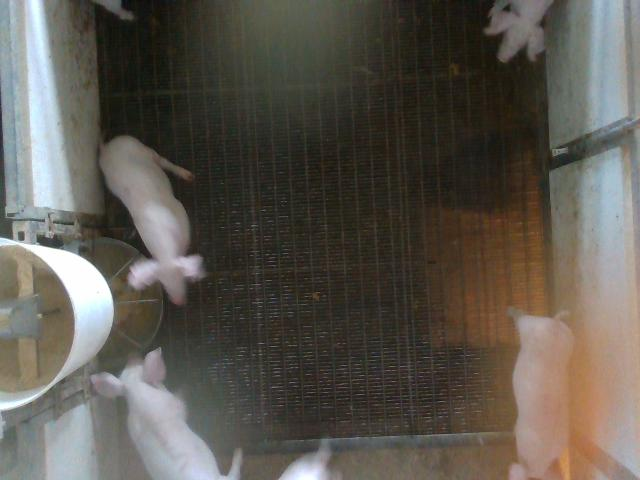pig-3: (91, 348, 222, 479)
pig-4: (509, 310, 574, 479)
